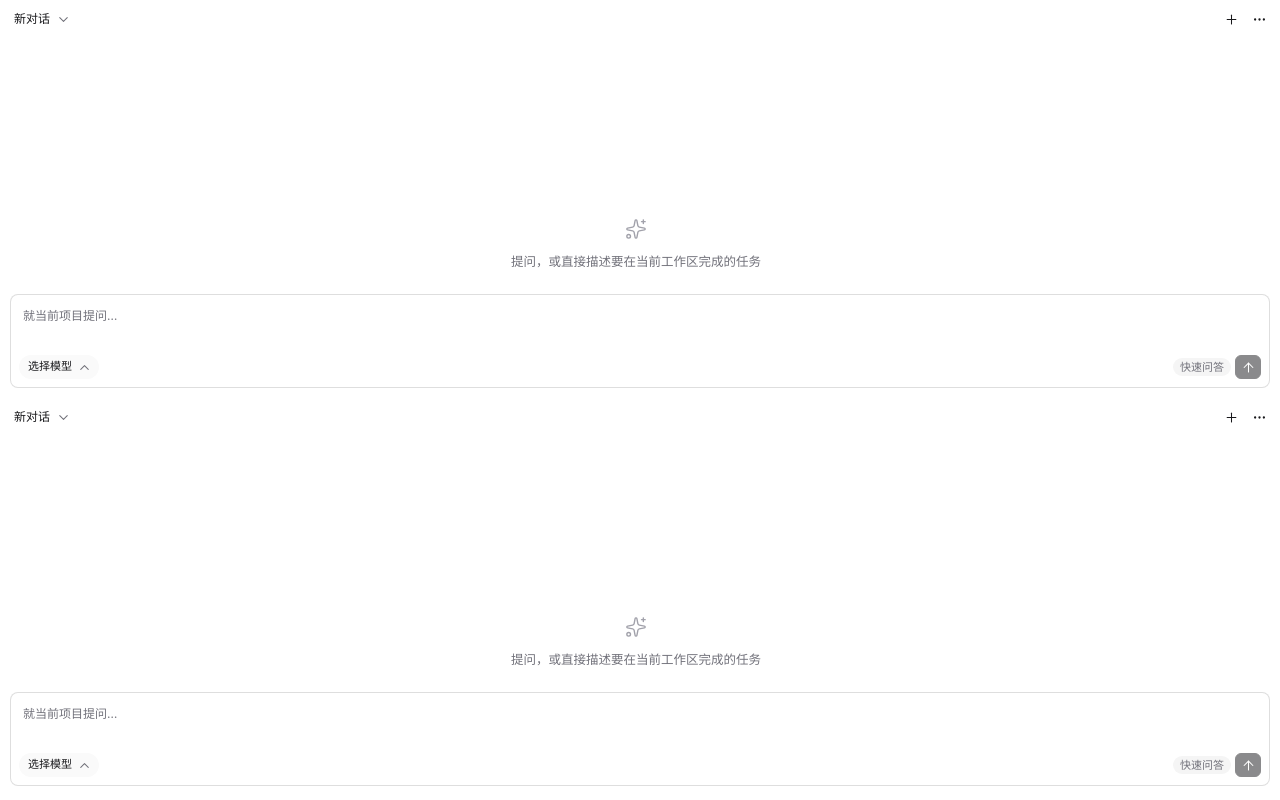
Test: opens the same translation session without sending or overwriting another project draft
Type "Existing draft" into the text box named "向 AI 提问" at (640, 329), box top-left (19, 303), bottom-right (1261, 355)
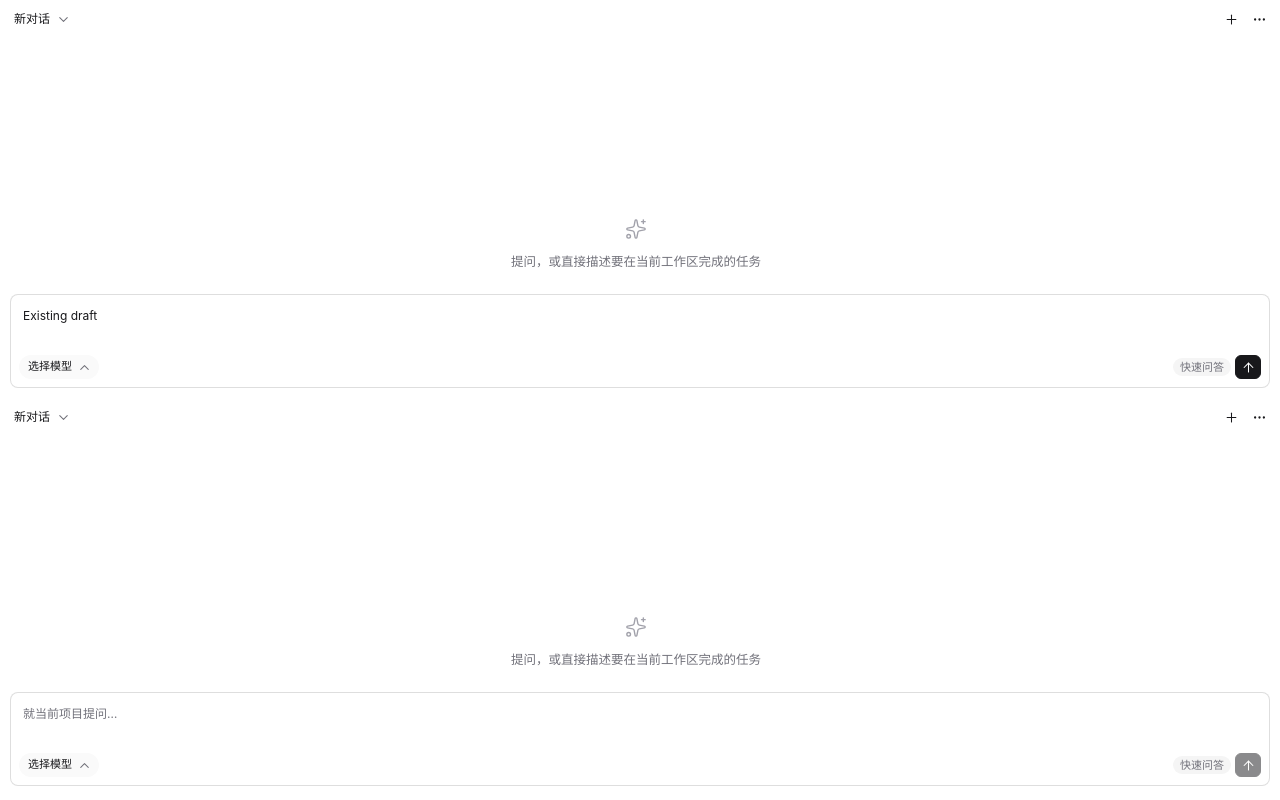
Type "Other project draft" into the text box named "向 AI 提问" at (640, 727), box top-left (19, 701), bottom-right (1261, 753)
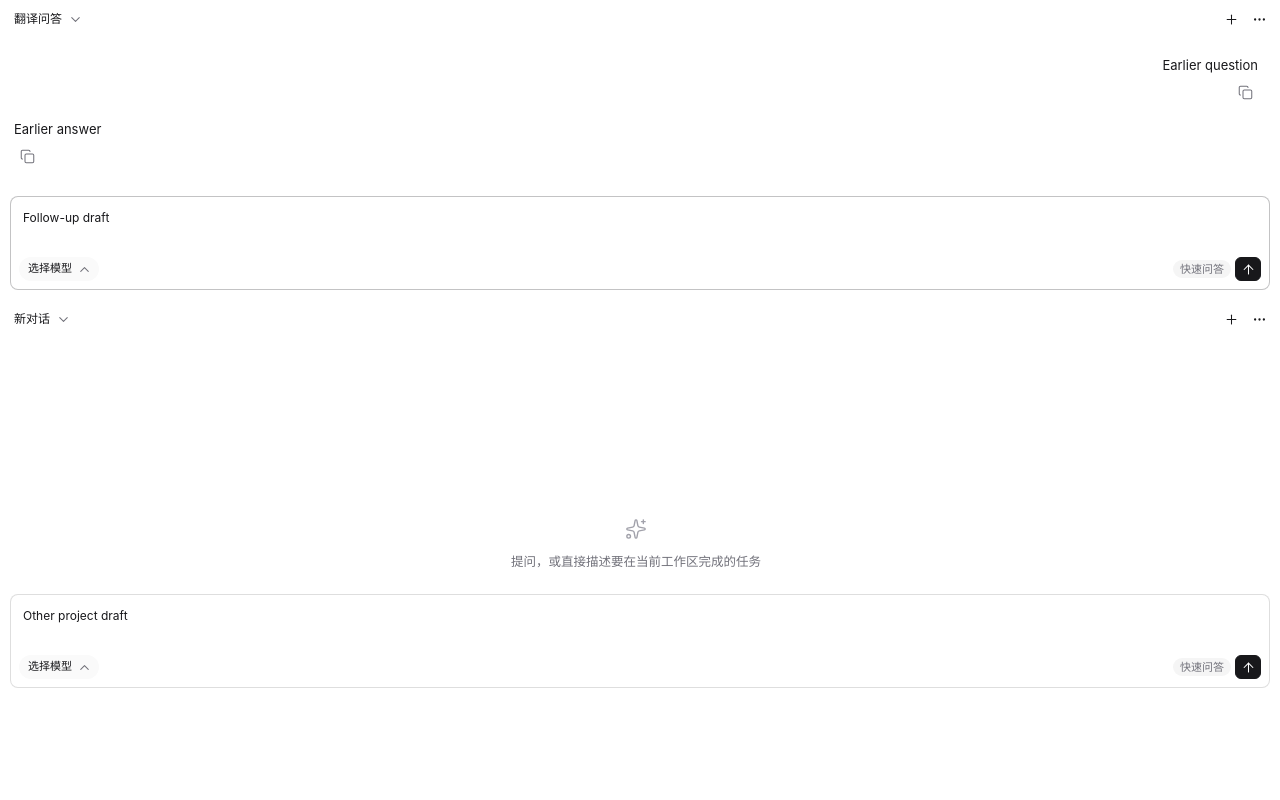
Expected: the text box named "向 AI 提问" below "Earlier answer" holds "Follow-up draft", top-left (19, 205), bottom-right (1261, 257)
Expected: the text "Earlier answer" is shown, top-left (14, 118), bottom-right (101, 140)
